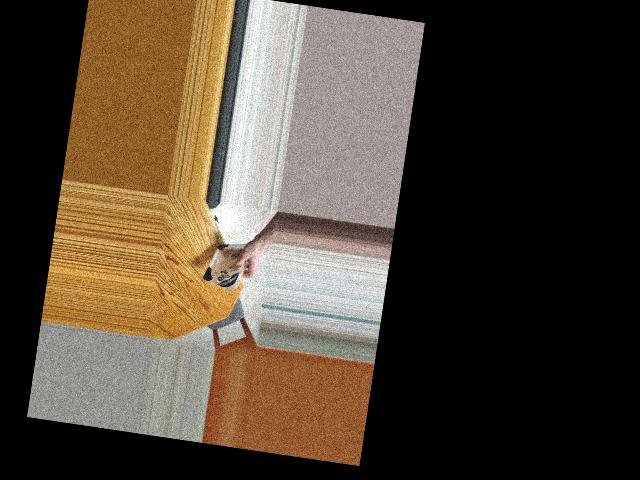cheese: (206, 237, 248, 293)
